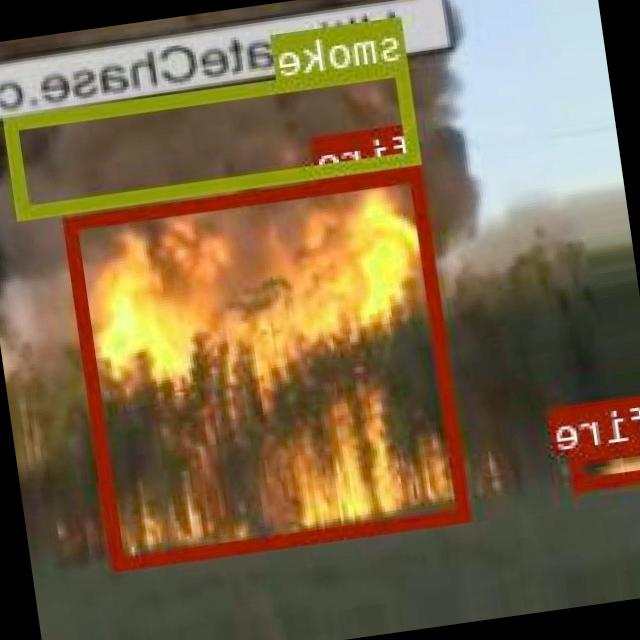fire: (66, 165, 473, 568), (570, 437, 640, 489)
smoke: (8, 59, 422, 216)
